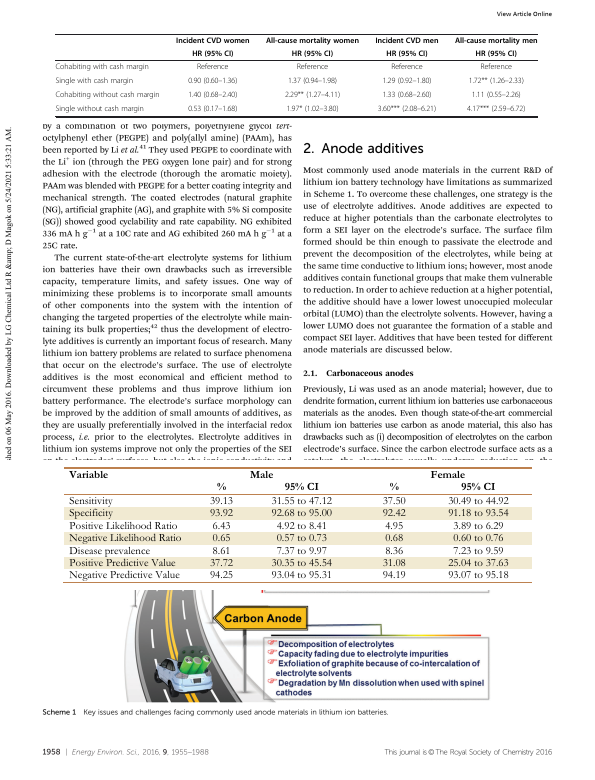borderless: (64, 465, 532, 582), (54, 32, 537, 116)
cell: (68, 533, 182, 545), (68, 570, 180, 582), (68, 520, 178, 532), (68, 558, 176, 570), (54, 90, 160, 100), (68, 545, 150, 557), (54, 62, 150, 72), (55, 104, 145, 114), (265, 36, 360, 45), (54, 76, 134, 86), (454, 36, 538, 45), (270, 496, 332, 508), (447, 496, 509, 508), (270, 508, 332, 520), (447, 508, 509, 520), (270, 558, 332, 570), (447, 558, 509, 570), (270, 570, 332, 582), (447, 570, 509, 582), (175, 36, 250, 45), (275, 520, 327, 532), (452, 520, 504, 532), (275, 533, 327, 545), (452, 533, 504, 545), (275, 545, 327, 557), (452, 545, 504, 557), (377, 104, 437, 114), (466, 104, 526, 114), (374, 36, 439, 45), (468, 76, 525, 86), (284, 90, 341, 100), (285, 104, 339, 114), (68, 496, 113, 508), (68, 508, 113, 520), (187, 76, 238, 86), (287, 76, 338, 86), (381, 76, 432, 86), (187, 90, 238, 100), (381, 90, 432, 100), (471, 90, 522, 100), (187, 104, 238, 114), (191, 49, 234, 59), (291, 49, 334, 59), (385, 49, 428, 59), (475, 49, 518, 59), (68, 469, 109, 479), (429, 469, 465, 479), (390, 62, 424, 72), (479, 62, 513, 72), (196, 62, 229, 72), (296, 62, 329, 72), (283, 482, 319, 491), (460, 482, 496, 491), (208, 496, 233, 508), (381, 496, 406, 508), (208, 508, 233, 520), (381, 508, 406, 520), (208, 558, 233, 570), (381, 558, 406, 570), (208, 570, 233, 582), (381, 570, 406, 582), (248, 469, 274, 479), (211, 520, 231, 532), (211, 533, 231, 545), (211, 545, 231, 557), (384, 520, 403, 532), (384, 533, 403, 545), (384, 545, 403, 557), (215, 482, 226, 491), (388, 482, 399, 491)
